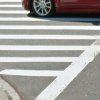Crosswalk: (3, 17, 93, 98)
